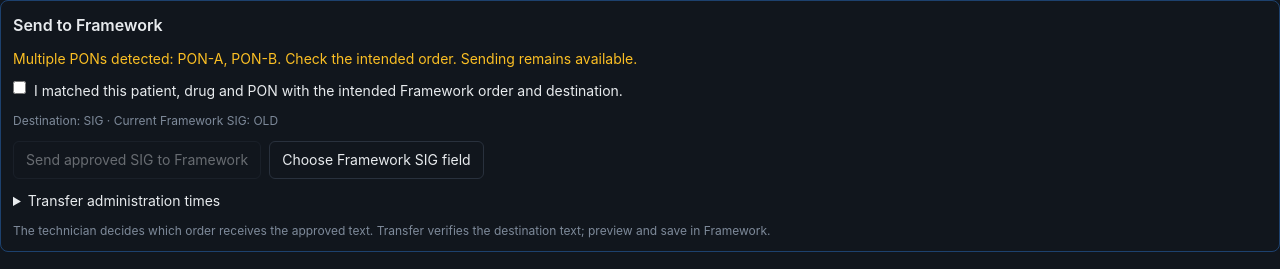
Test: technician-controlled Framework sending › warns about two PONs without blocking an approved send
Later steps or results of the test are not shown.
Expected: the message shows "Multiple PONs detected", [13,50,178,67]
Click the switch labelled "I matched this patient, drug and PON".
click(20, 88)  # box [13,81,26,94]
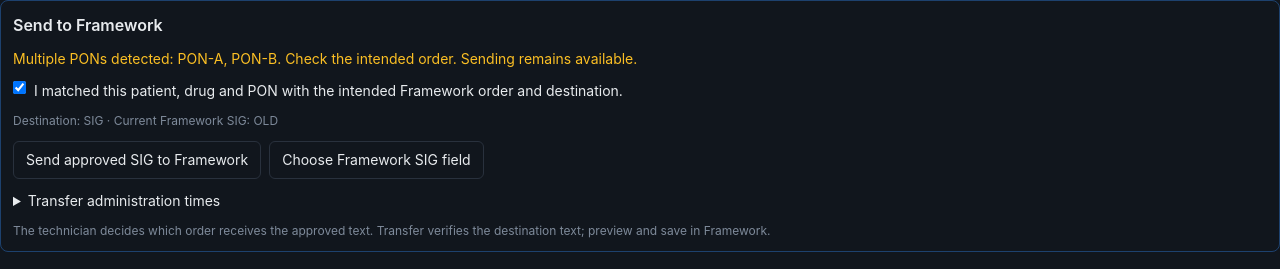
Expected: the button "Send approved SIG to Framework" is enabled, [13,141,261,179]
